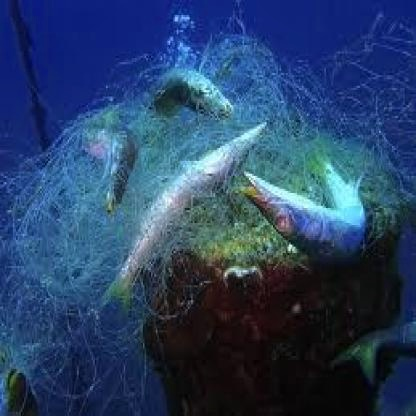net: (11, 38, 405, 348)
